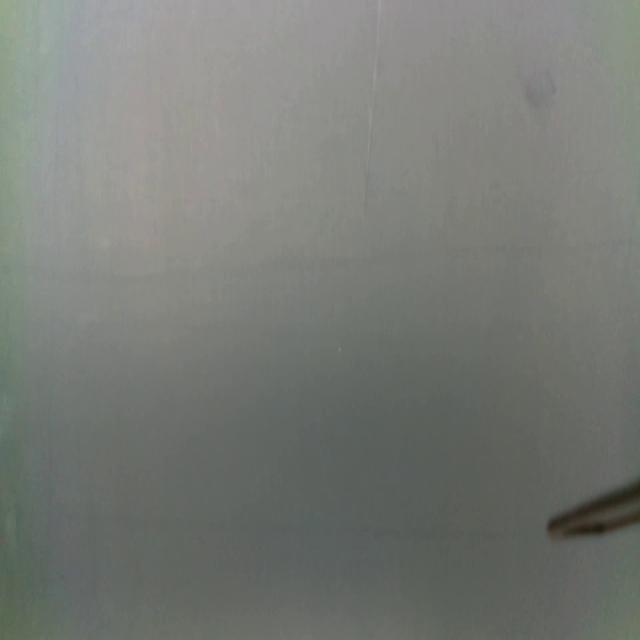color bleeding: (0, 235, 640, 289), (84, 503, 529, 548)
crease: (362, 0, 383, 217)
